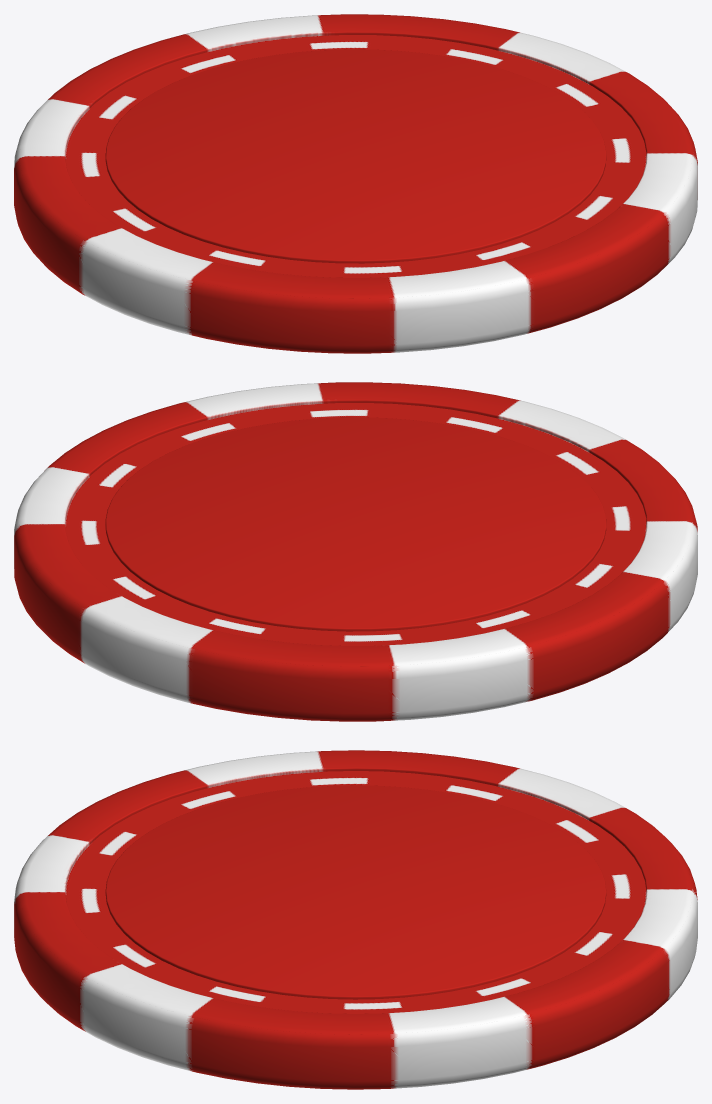
File: red_white.glb
3 views of the same model, one above another, from view 1: azimuth 30°, elevation 25°; view 2: azimuth 150°, elevation 25°; view 3: azimuth 270°, elevation 25° (orthographic).
Parts seen in each view (by area): view 1: chips.588_chips_red_bake_0; view 2: chips.588_chips_red_bake_0; view 3: chips.588_chips_red_bake_0.
Boxes of the visible parts, x1,y1,x2,y2 form: chips.588_chips_red_bake_0: (14, 14, 697, 353); chips.588_chips_red_bake_0: (14, 382, 697, 721); chips.588_chips_red_bake_0: (14, 750, 697, 1089).
Bounding box in the file's own units: 2 × 0.1882 × 2.
Materials: 1 (1 with a texture image).
